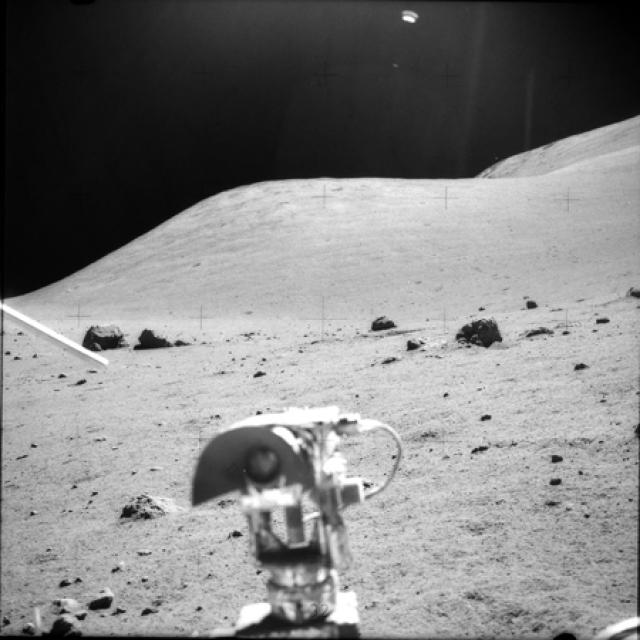artifact: (182, 391, 414, 639), (2, 299, 110, 381)
rock: (105, 480, 174, 526), (447, 309, 506, 348), (79, 320, 129, 348), (88, 582, 122, 611), (136, 325, 171, 353), (369, 312, 398, 335), (527, 295, 538, 312)
